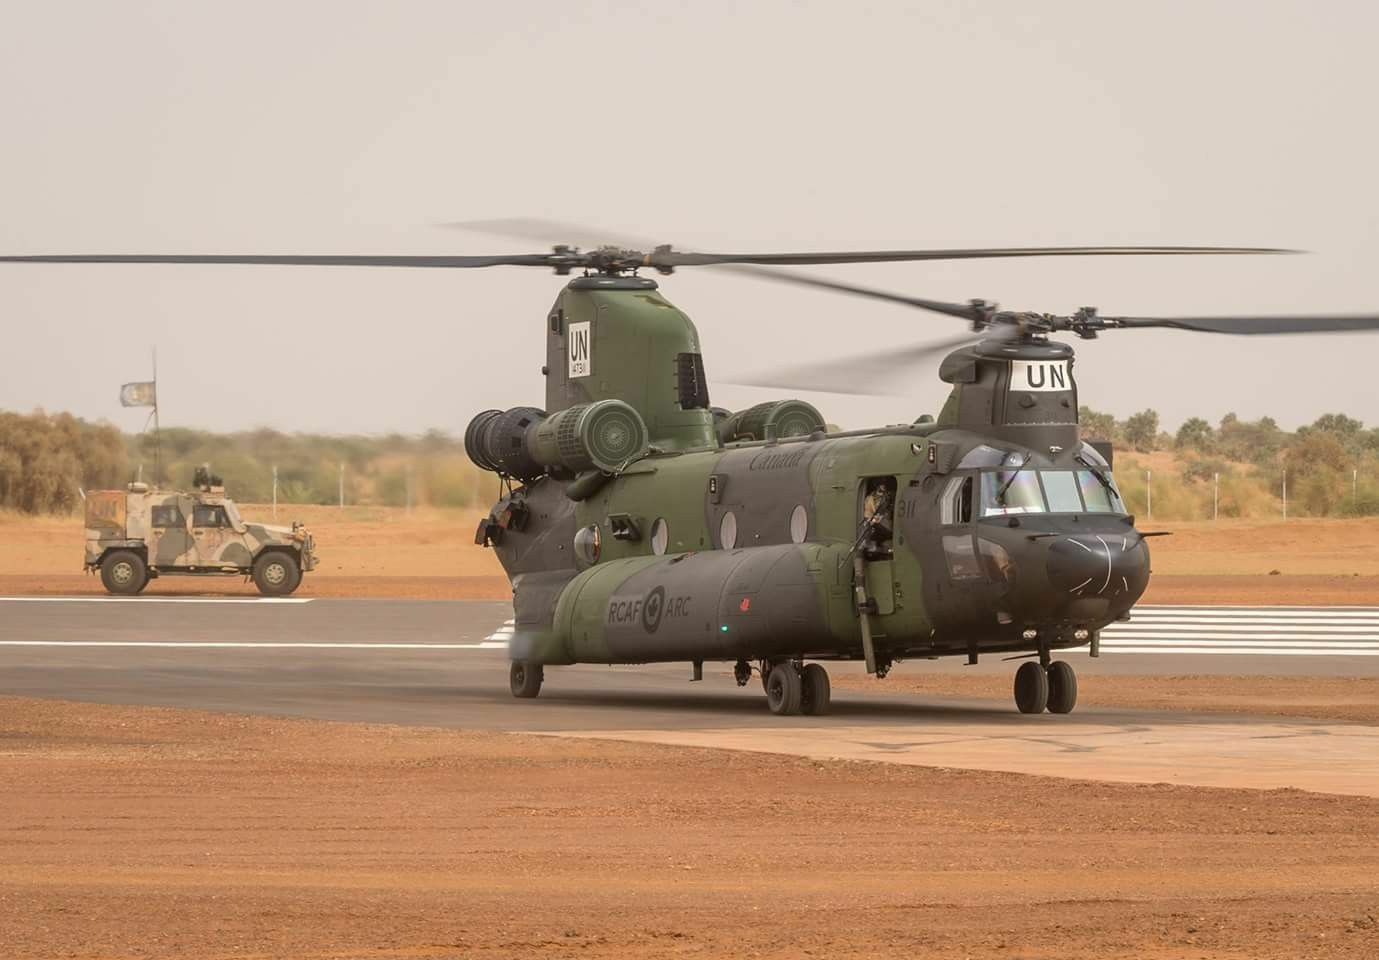HMMWV: (41, 431, 343, 602)
chinook: (407, 232, 1295, 752)
